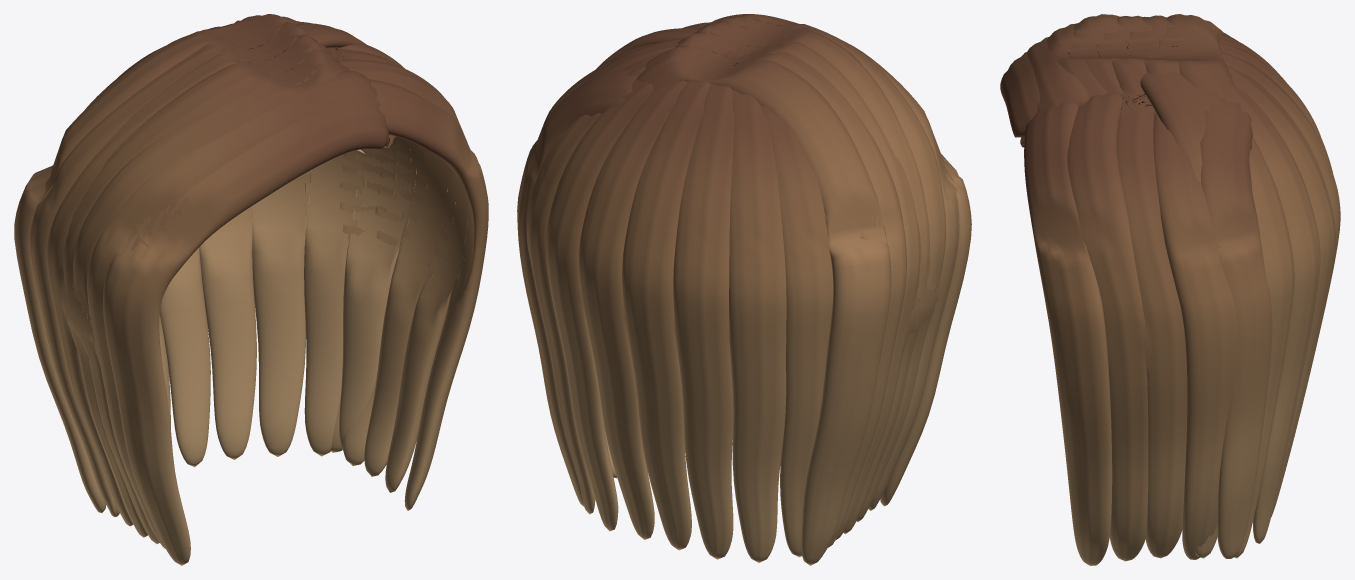
File: Ombre-f93f70ff82d5253-hair.glb
3 renders of one model, left to right at view 1: azimuth 30°, elevation 25°; view 2: azimuth 150°, elevation 25°; view 3: azimuth 270°, elevation 25°, orthographic.
Parts seen in each view (by area): view 1: 226 hair / Hair / sculpted 0.001, 226 hair / Hair / sculpted 1.002, 226 hair / Hair / sculpted 2.001; view 2: 226 hair / Hair / sculpted 0.001, 226 hair / Hair / sculpted 2.001, 226 hair / Hair / sculpted 1.002; view 3: 226 hair / Hair / sculpted 1.002, 226 hair / Hair / sculpted 2.001, 226 hair / Hair / sculpted 0.001.
Boxes of the visible parts, box(x1,y1,x2,y2) form: 226 hair / Hair / sculpted 0.001: box(14, 14, 455, 565); 226 hair / Hair / sculpted 1.002: box(46, 23, 488, 548); 226 hair / Hair / sculpted 2.001: box(30, 21, 471, 543); 226 hair / Hair / sculpted 0.001: box(545, 16, 971, 565); 226 hair / Hair / sculpted 2.001: box(517, 14, 945, 557); 226 hair / Hair / sculpted 1.002: box(517, 14, 959, 562); 226 hair / Hair / sculpted 1.002: box(1024, 15, 1335, 565); 226 hair / Hair / sculpted 2.001: box(1045, 15, 1340, 561); 226 hair / Hair / sculpted 0.001: box(1000, 14, 1332, 558).
Size of the model in its own units: 1.02 by 1.19 by 0.7803.
4 materials, 4 textured.
